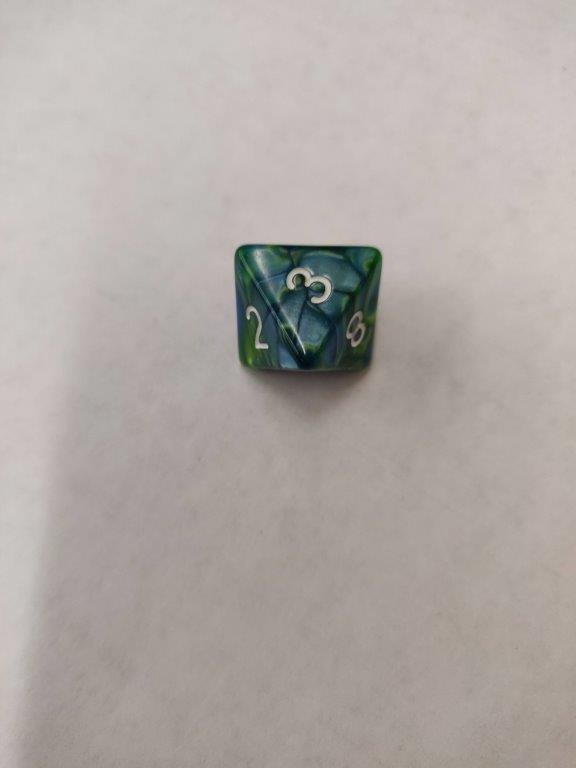d8-3: (232, 242, 383, 374)
